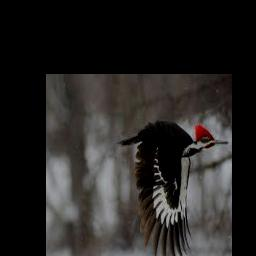Woodpecker: (118, 122, 229, 256)
